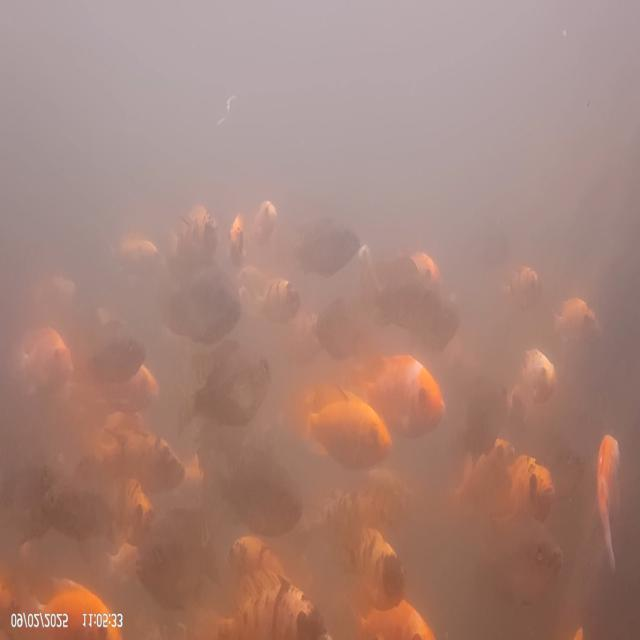ikan: (345, 350, 446, 439), (456, 436, 555, 526), (179, 339, 272, 432), (302, 380, 392, 470), (595, 432, 621, 571)
